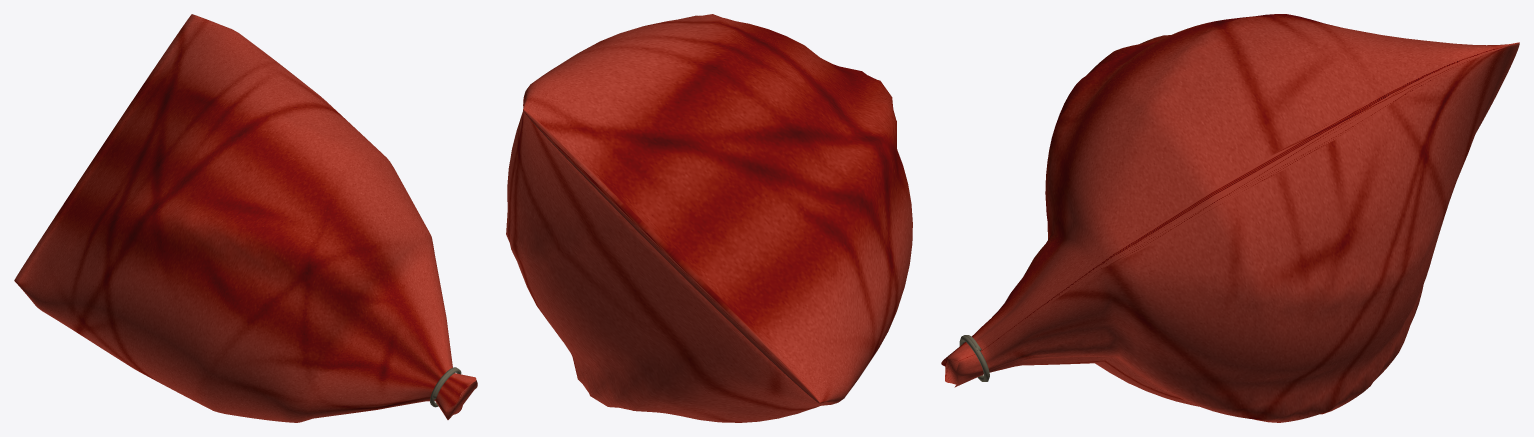
File: peach_01_026.glb
3 views of the same model, side by side, from view 1: azimuth 30°, elevation 25°; view 2: azimuth 150°, elevation 25°; view 3: azimuth 270°, elevation 25° (orthographic). The views are drawn at different scales.
Visible parts, largest first — view 1: export_Tree01/shoot2_2_1/bag; view 2: export_Tree01/shoot2_2_1/bag; view 3: export_Tree01/shoot2_2_1/bag.
Boxes of the visible parts, x1,y1,x2,y2 form: export_Tree01/shoot2_2_1/bag: (14,14,477,422); export_Tree01/shoot2_2_1/bag: (506,14,912,422); export_Tree01/shoot2_2_1/bag: (941,14,1519,422).
Bounding box in the file's own units: 0.0926 × 0.0867 × 0.1201.
Materials: 4 (1 with a texture image).
